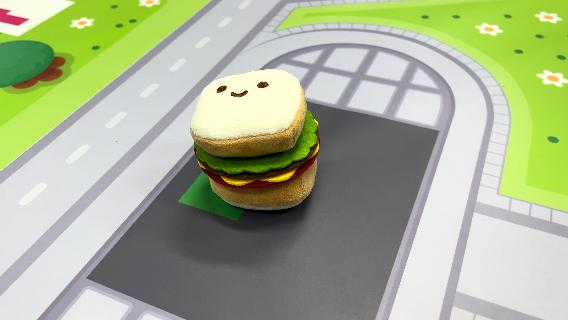sandwich: (189, 66, 323, 212)
